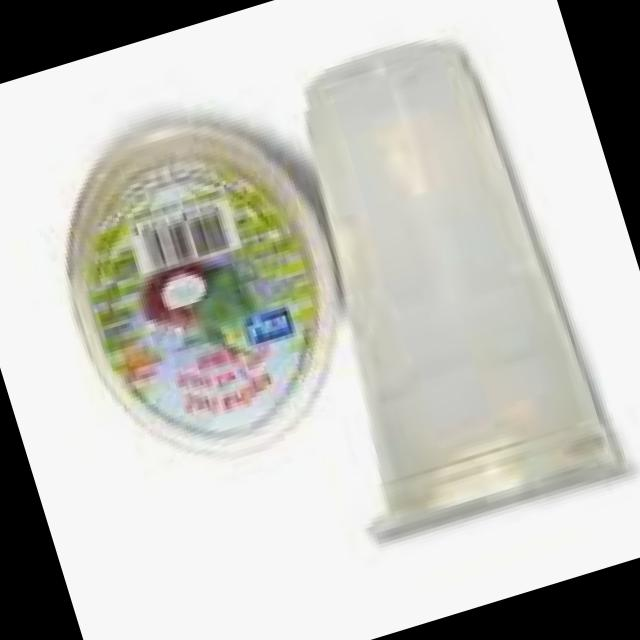GelasPlastik: (231, 16, 638, 562), (26, 90, 381, 496)
